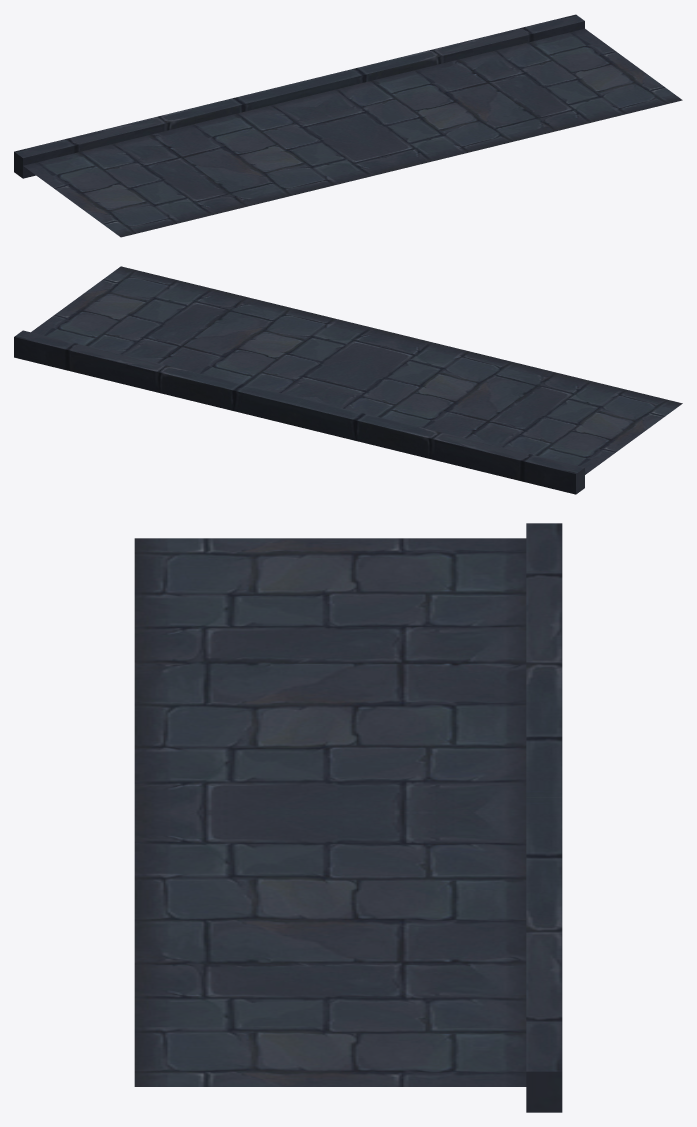
The model's file is Juesexuanze_dimian.FBX.
The picture shows the model from 3 angles, top to bottom: view 1: azimuth 30°, elevation 25°; view 2: azimuth 150°, elevation 25°; view 3: azimuth 270°, elevation 25°; orthographic projection. The views are drawn at different scales.
Parts seen in each view (by area): view 1: Juesexuanze_dimian; view 2: Juesexuanze_dimian; view 3: Juesexuanze_dimian.
Boxes of the visible parts, box(x1,y1,x2,y2) form: Juesexuanze_dimian: box(14, 14, 682, 237); Juesexuanze_dimian: box(14, 266, 682, 494); Juesexuanze_dimian: box(134, 523, 562, 1112).
Bounding box in the file's own units: 444 × 146 × 15.49.
